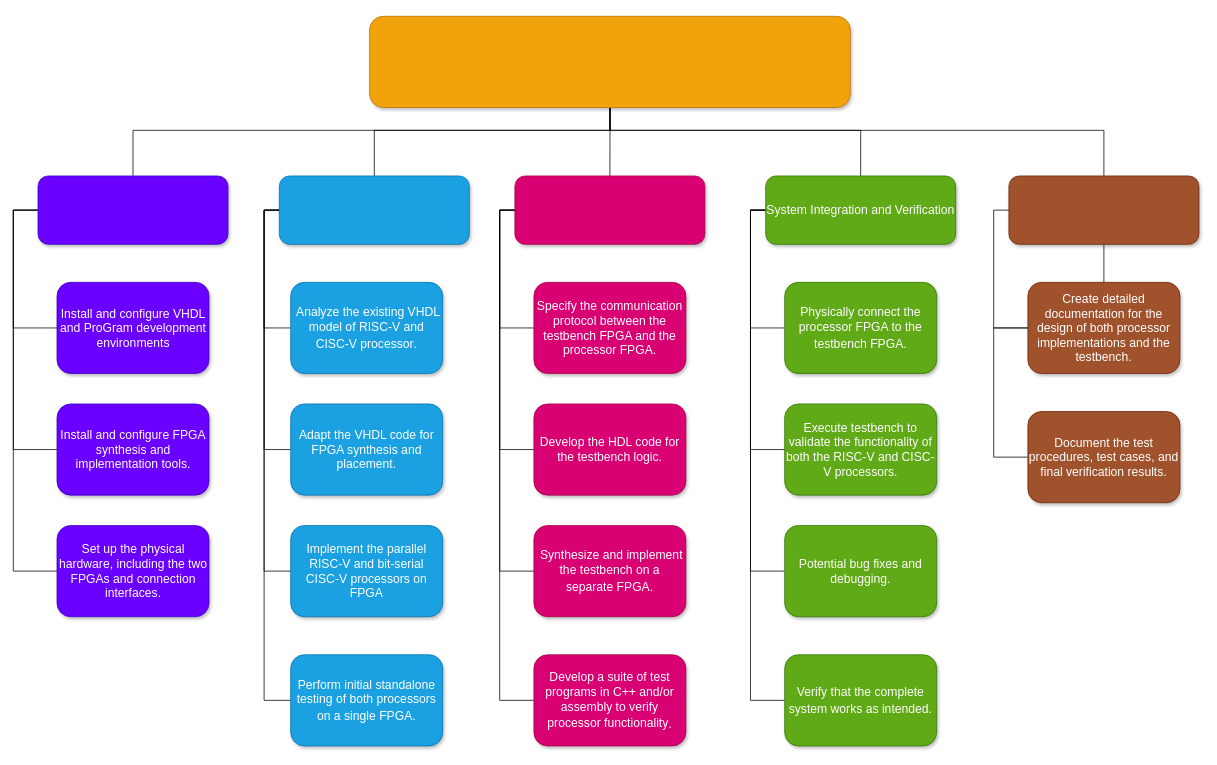
Some shapes in this 1217 by 765 pixel diagram are drawn without their labels. Here are the shapes that lost their labels. From the top down, the centre of each, then its label:
At point (610, 63): "Testbench for Bit-Serial RISC-V processor in SoI for Venus".
At point (133, 211): "Toolchain and Hardware Setup".
At point (375, 211): "FPGA Prototyping of Processor Cores".
At point (610, 211): "Testbench Development".
At point (1104, 211): "Project Finalization and Documentation".
